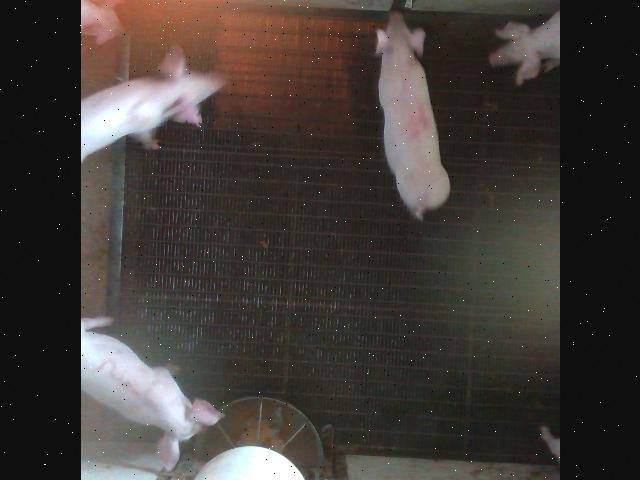pig-3: (81, 318, 222, 470)
pig-4: (375, 11, 449, 220)
